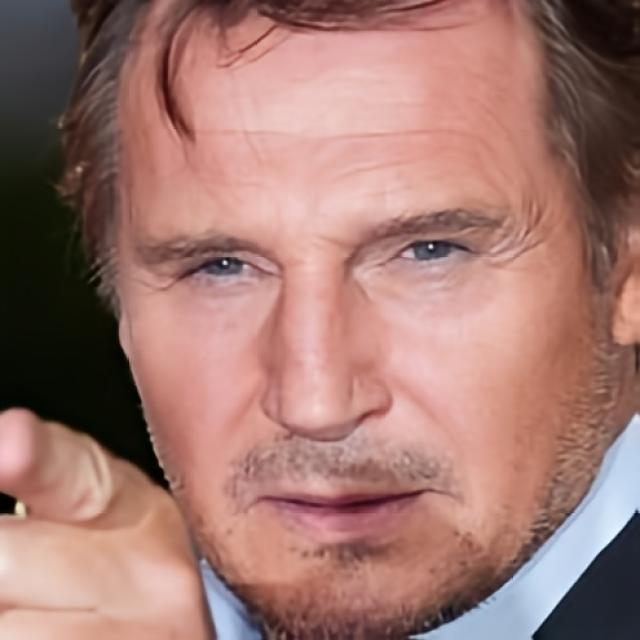disgust: (116, 0, 610, 640)
